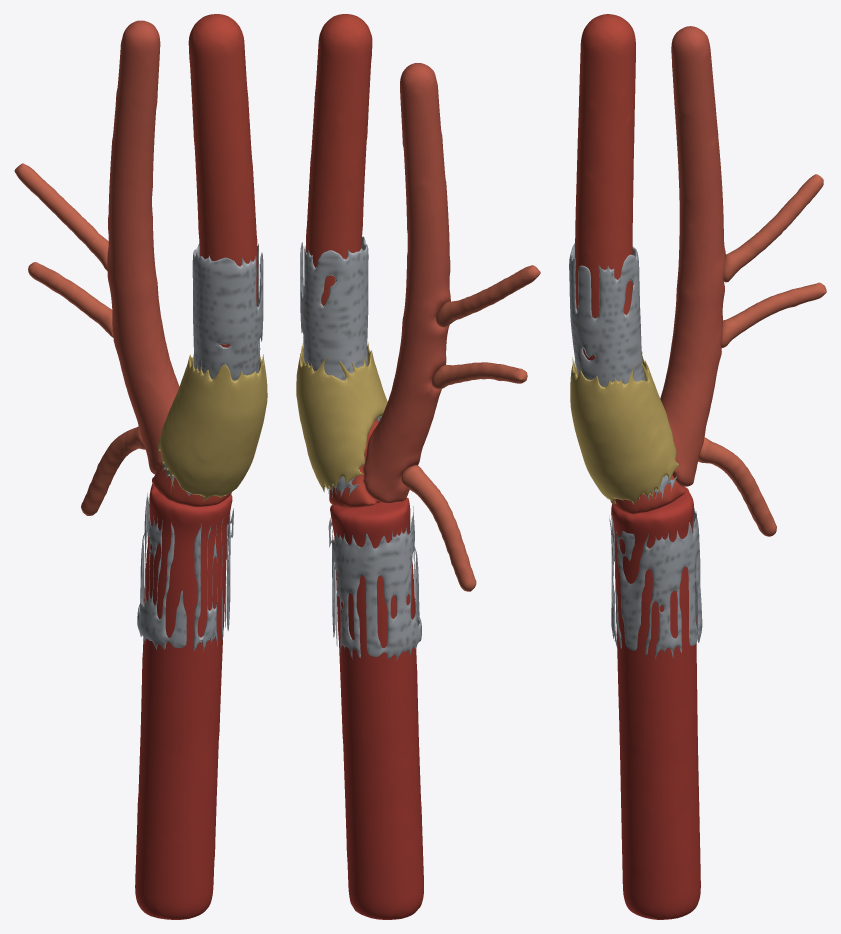
Rendered from carotid_stent.glb.
3 renders of one model, left to right at view 1: azimuth 30°, elevation 25°; view 2: azimuth 210°, elevation 25°; view 3: azimuth 270°, elevation 25°, orthographic. The views are drawn at different scales.
Visible parts, largest first — view 1: common_carotid, external_carotid, internal_carotid, carotid_stent, plaque, eca_branches; view 2: common_carotid, external_carotid, carotid_stent, internal_carotid, plaque, eca_branches; view 3: common_carotid, external_carotid, internal_carotid, carotid_stent, plaque, eca_branches.
Boxes of the visible parts, x1,y1,x2,y2 form: common_carotid: (135,483,232,919); external_carotid: (107,20,179,474); internal_carotid: (152,14,257,506); carotid_stent: (137,244,263,651); plaque: (158,354,267,500); eca_branches: (14,163,145,515); common_carotid: (330,497,423,919); external_carotid: (363,63,450,503); carotid_stent: (300,236,421,660); internal_carotid: (305,14,380,507); plaque: (296,342,387,492); eca_branches: (401,265,540,591); common_carotid: (611,486,700,919); external_carotid: (660,26,725,486); internal_carotid: (575,14,685,514); carotid_stent: (569,243,702,659); plaque: (570,352,679,504); eca_branches: (698,174,826,536).
Bounding box in the file's own units: 2.91 × 17.66 × 4.58.
